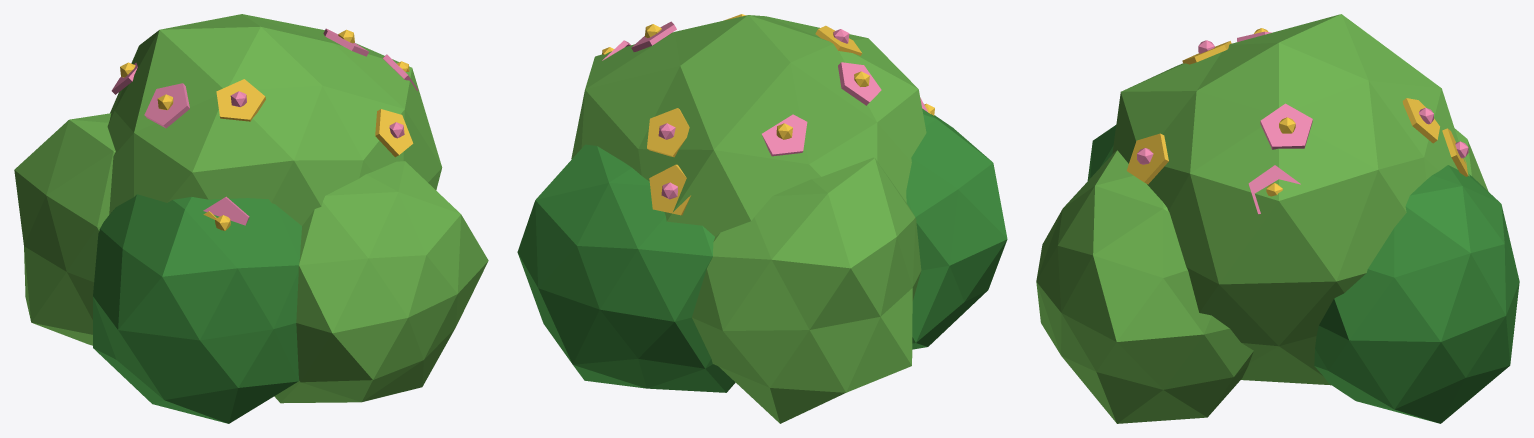
The model's file is nat_bush_c_v01.glb.
3 views of the same model, side by side, from view 1: azimuth 30°, elevation 25°; view 2: azimuth 150°, elevation 25°; view 3: azimuth 270°, elevation 25° (orthographic). The views are drawn at different scales.
Parts seen in each view (by area): view 1: bush; view 2: bush; view 3: bush.
Boxes of the visible parts, bbox=[...] form: bush: bbox=[14, 14, 488, 423]; bush: bbox=[517, 14, 1007, 423]; bush: bbox=[1036, 14, 1519, 423].
Bounding box in the file's own units: 1.08 × 1 × 1.23.
